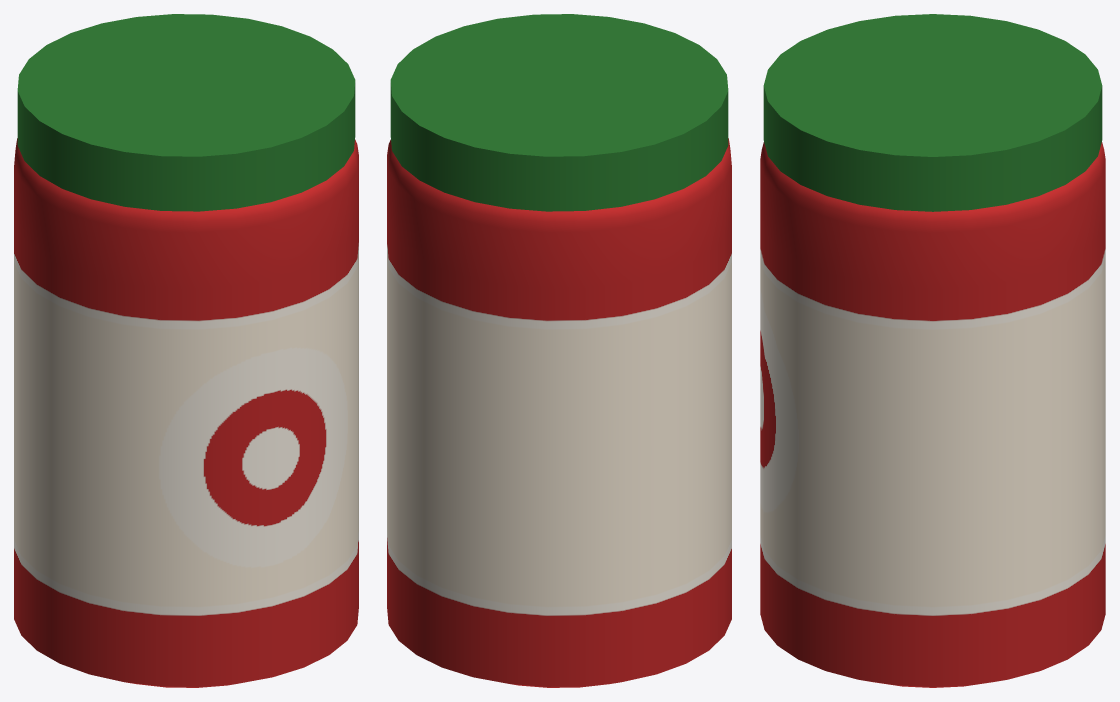
The model's file is Tomato_Sauce.fbx.
3 views of the same model, side by side, from view 1: azimuth 30°, elevation 25°; view 2: azimuth 150°, elevation 25°; view 3: azimuth 270°, elevation 25° (orthographic).
Parts seen in each view (by area): view 1: Tomato_Sauce; view 2: Tomato_Sauce; view 3: Tomato_Sauce.
Part boxes in pixels (x1,y1,x2,y2): Tomato_Sauce: [14, 14, 358, 687]; Tomato_Sauce: [387, 14, 731, 687]; Tomato_Sauce: [760, 14, 1105, 687].
Size of the model in its own units: 0.08 by 0.139 by 0.08.
Materials: 3 (1 with a texture image).
